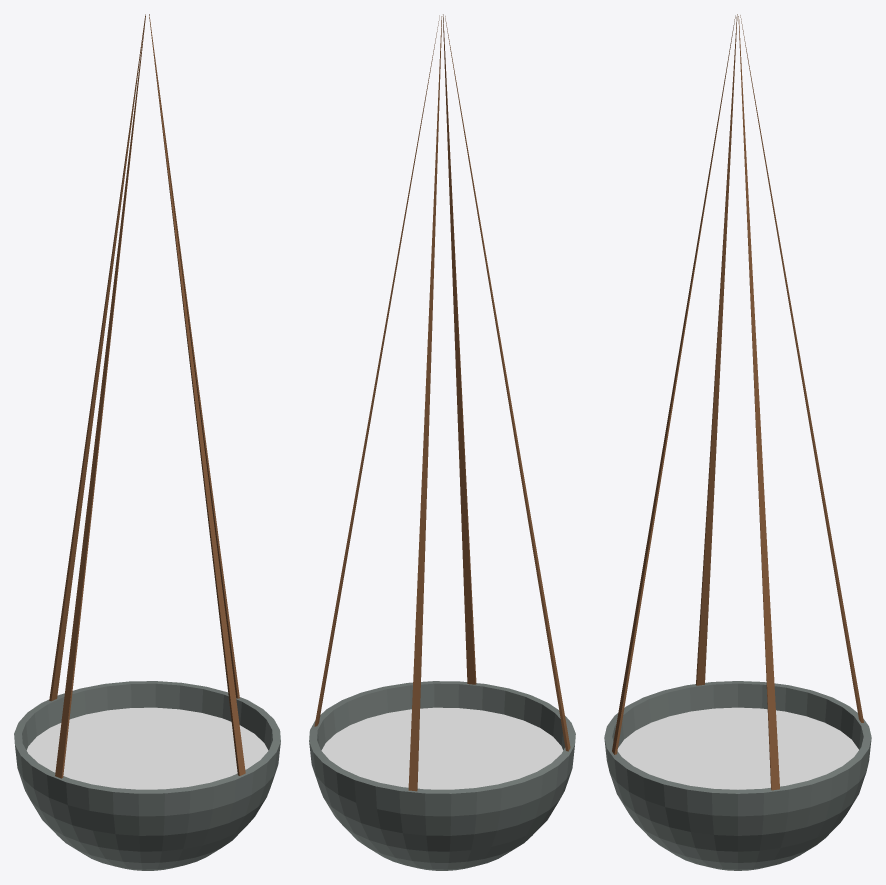
Rendered from Magic_Potion_Pan.fbx.
3 renders of one model, left to right at view 1: azimuth 30°, elevation 25°; view 2: azimuth 150°, elevation 25°; view 3: azimuth 270°, elevation 25°, orthographic.
Visible parts, largest first — view 1: Sphere.002, Sphere.003; view 2: Sphere.002, Sphere.003; view 3: Sphere.002, Sphere.003.
Part boxes in pixels (box(x1,y1,x2,y2)): Sphere.002: box(14, 14, 280, 870); Sphere.003: box(26, 707, 268, 789); Sphere.002: box(309, 14, 575, 870); Sphere.003: box(321, 707, 563, 789); Sphere.002: box(604, 14, 871, 870); Sphere.003: box(617, 707, 858, 789).
Size of the model in its own units: 151 by 527 by 151.
